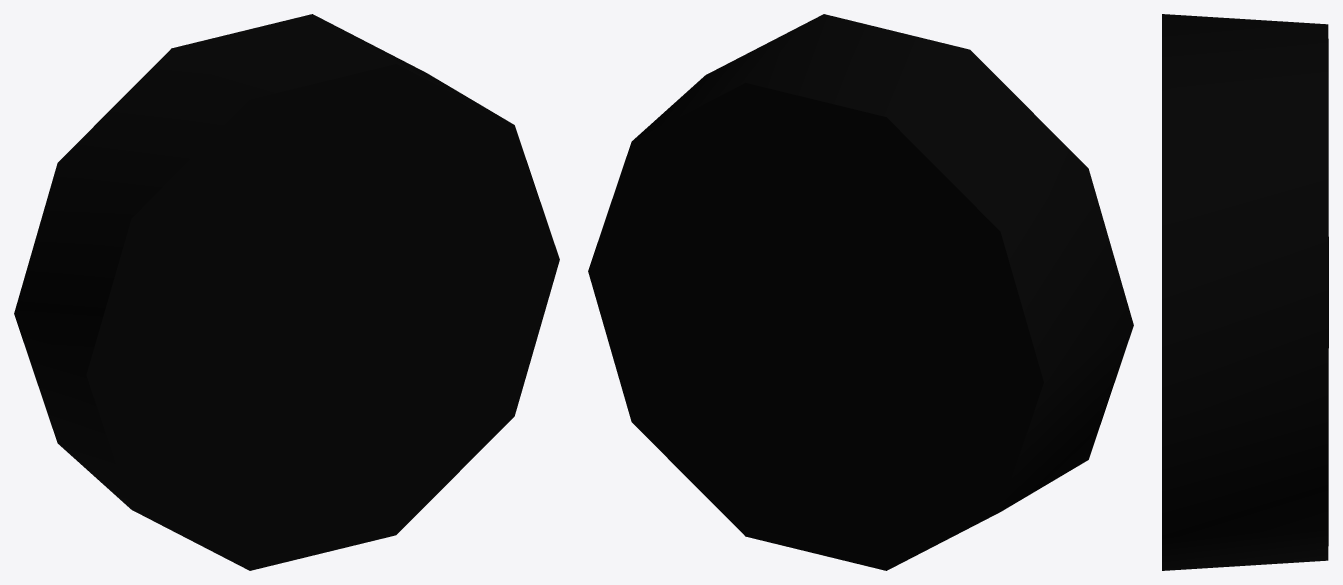
Rendered from INST_SILVERPENNY.fbx.
3 views of the same model, side by side, from view 1: azimuth 30°, elevation 25°; view 2: azimuth 150°, elevation 25°; view 3: azimuth 270°, elevation 25° (orthographic). The views are drawn at different scales.
Parts seen in each view (by area): view 1: INST_SILVERPENNY; view 2: INST_SILVERPENNY; view 3: INST_SILVERPENNY.
Part boxes in pixels (x1,y1,x2,y2): INST_SILVERPENNY: [14, 14, 559, 570]; INST_SILVERPENNY: [588, 14, 1133, 570]; INST_SILVERPENNY: [1162, 14, 1328, 570].
Size of the model in its own units: 4228 by 4021 by 1257.
Materials: 1 (1 with a texture image).
